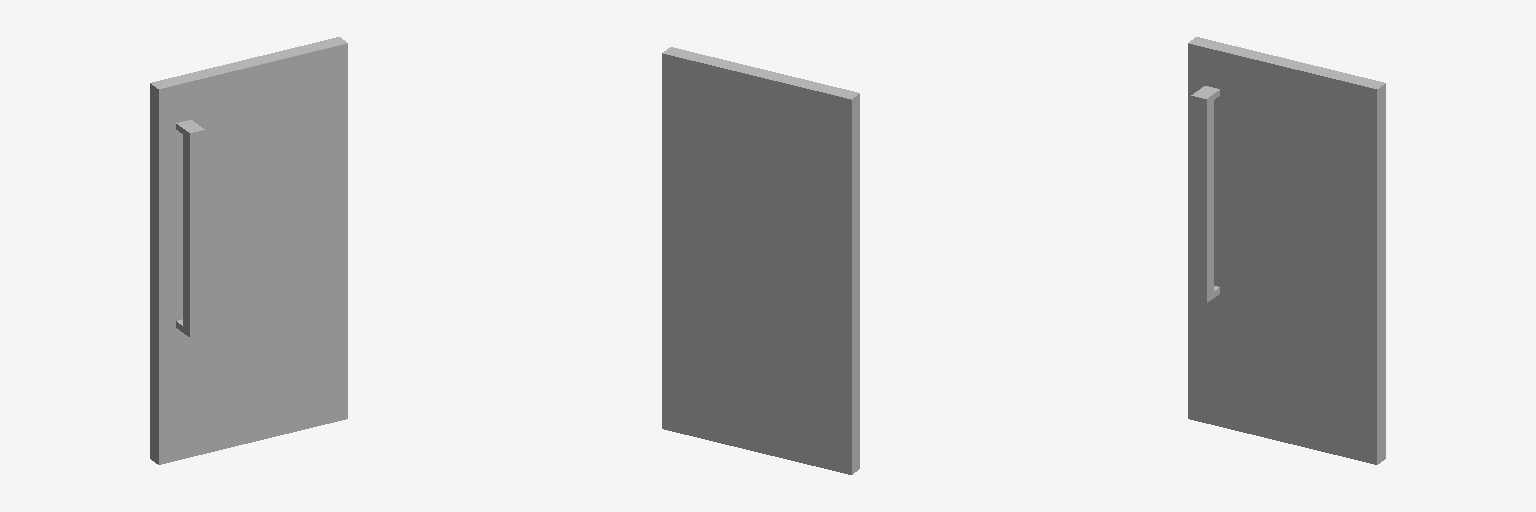
The model's file is AFRIDGE3.obj.
The picture shows the model from 3 angles: view 1: azimuth 30°, elevation 25°; view 2: azimuth 150°, elevation 25°; view 3: azimuth 330°, elevation 25°; orthographic projection.
Parts seen in each view (by area): view 1: user; view 2: user; view 3: user.
Boxes of the visible parts, box(x1,y1,x2,y2) form: user: box(150, 37, 347, 464); user: box(662, 47, 859, 474); user: box(1188, 37, 1385, 464).
Bounding box in the file's own units: 56.7 × 107 × 11.71.